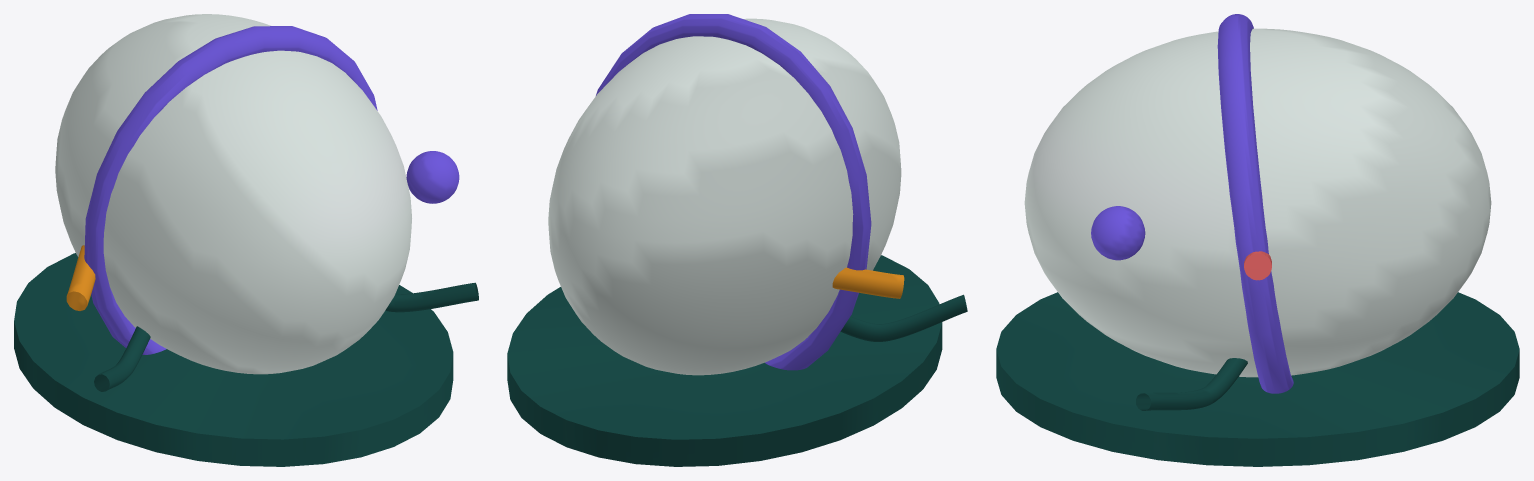
The model's file is 1204_细胞图鉴_动物细胞.glb.
3 renders of one model, left to right at view 1: azimuth 30°, elevation 25°; view 2: azimuth 150°, elevation 25°; view 3: azimuth 270°, elevation 25°, orthographic. The views are drawn at different scales.
Parts seen in each view (by area): view 1: card_1204; view 2: card_1204; view 3: card_1204.
Boxes of the visible parts, <box> form: card_1204: <box>14,14,478,466</box>; card_1204: <box>507,14,967,466</box>; card_1204: <box>996,14,1519,466</box>.
Size of the model in its own units: 1.13 by 1 by 1.3.
